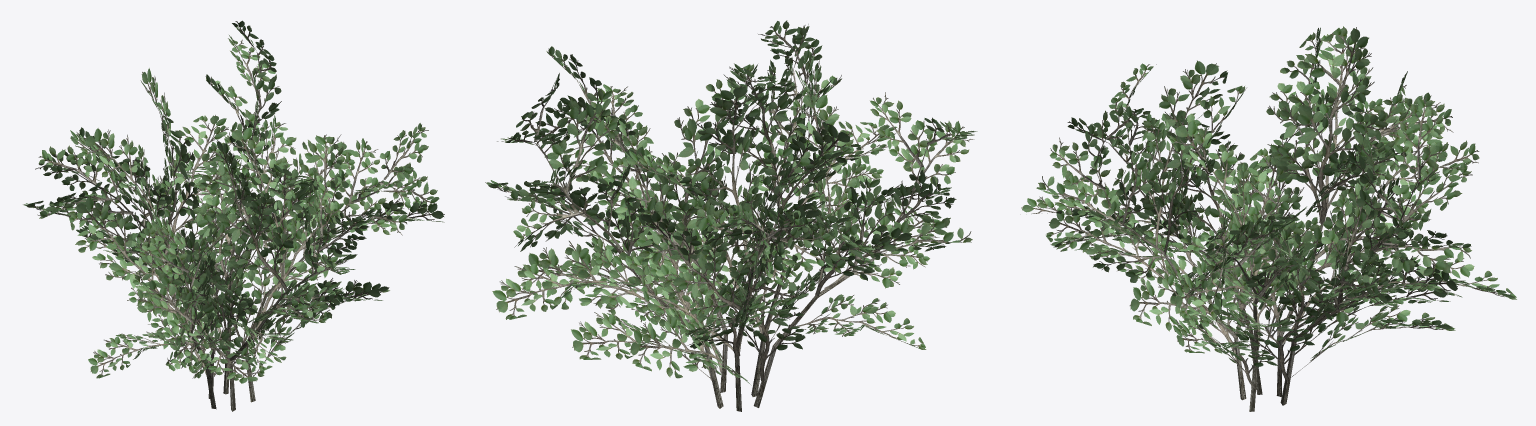
Rendered from Bush - Bush5-Bhbdj6ci.glb.
3 renders of one model, left to right at view 1: azimuth 30°, elevation 25°; view 2: azimuth 150°, elevation 25°; view 3: azimuth 270°, elevation 25°, orthographic. The views are drawn at different scales.
Visible parts, largest first — view 1: Bush5_LOD0; view 2: Bush5_LOD0; view 3: Bush5_LOD0.
Part boxes in pixels (x1=…): Bush5_LOD0: x1=23, y1=20, x2=444, y2=411; Bush5_LOD0: x1=485, y1=20, x2=977, y2=411; Bush5_LOD0: x1=1021, y1=26, x2=1516, y2=411.
Bounding box in the file's own units: 4.45 × 3.88 × 4.92.
Materials: 2 (2 with a texture image).
